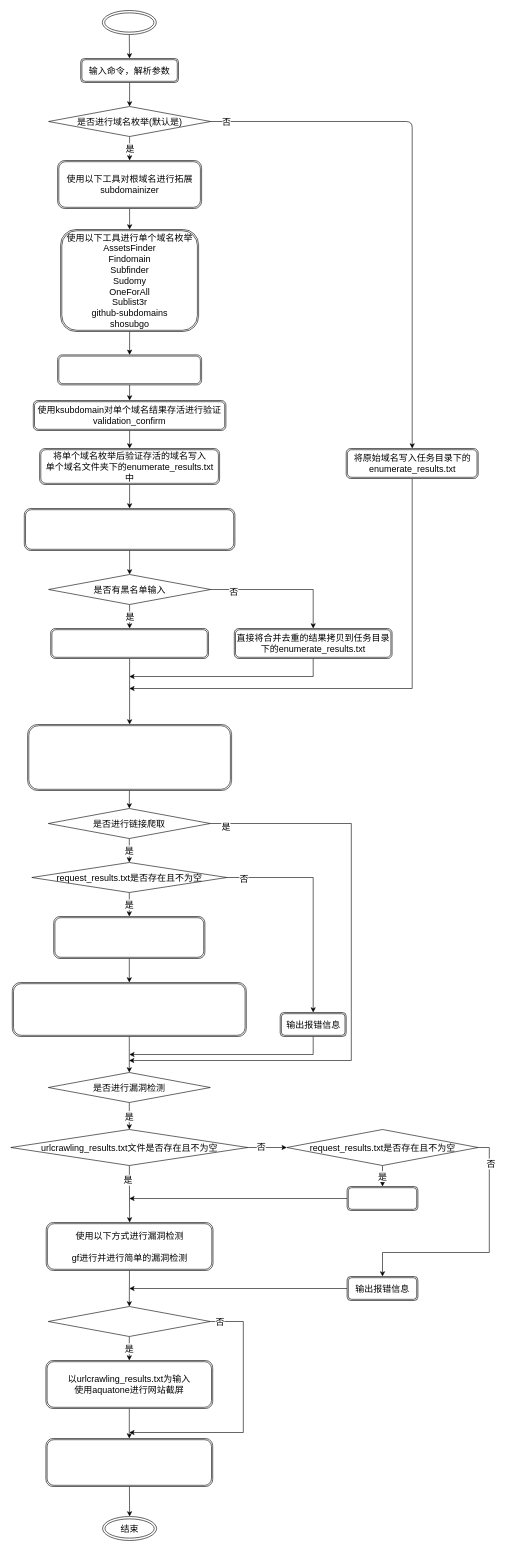
This 506x1551 diagram has some shape labels left out. The shapes that lost their labels are listed below. From the top down, each one's centre as x and y in pixels, then its label:
the point at 129,22: 开始
the point at 129,369: 对单个枚举结果进行合并去重处理 sort_enumerate_Results
the point at 129,529: 合并域名枚举结果文件夹子文件夹下的所有enumerate_results.txt文件内容到用域名枚举结果文件夹下并进行与输入域名合并去重操作
the point at 129,643: 使用黑名单处理脚本，结果输出到任务目录下的enumerate_results.txt
the point at 129,757: 使用以下工具进行http请求（默认进行） httpx httprobe gau 爬取结果存储为任务目录下的request_results.txt
the point at 129,937: 判断request_results.txt条数是否超过20条，如果超过则以20条为一批次进行切割
the point at 129,1009: 分批次使用以下链接爬取工具进行链接爬取 gospider hakrawler 结果去重存储在任务文件夹下的urlcrawling_results.txt中
the point at 382,1198: 进行链接爬取
the point at 129,1321: 是否进行网站截屏
the point at 129,1462: 使用pull_out_bits_of_urls函数 对url目录路径及参数值进行提取
